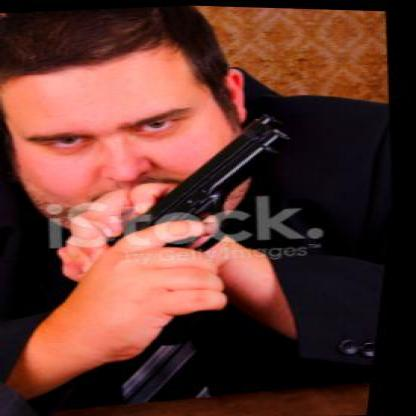pistol: (70, 102, 340, 356)
